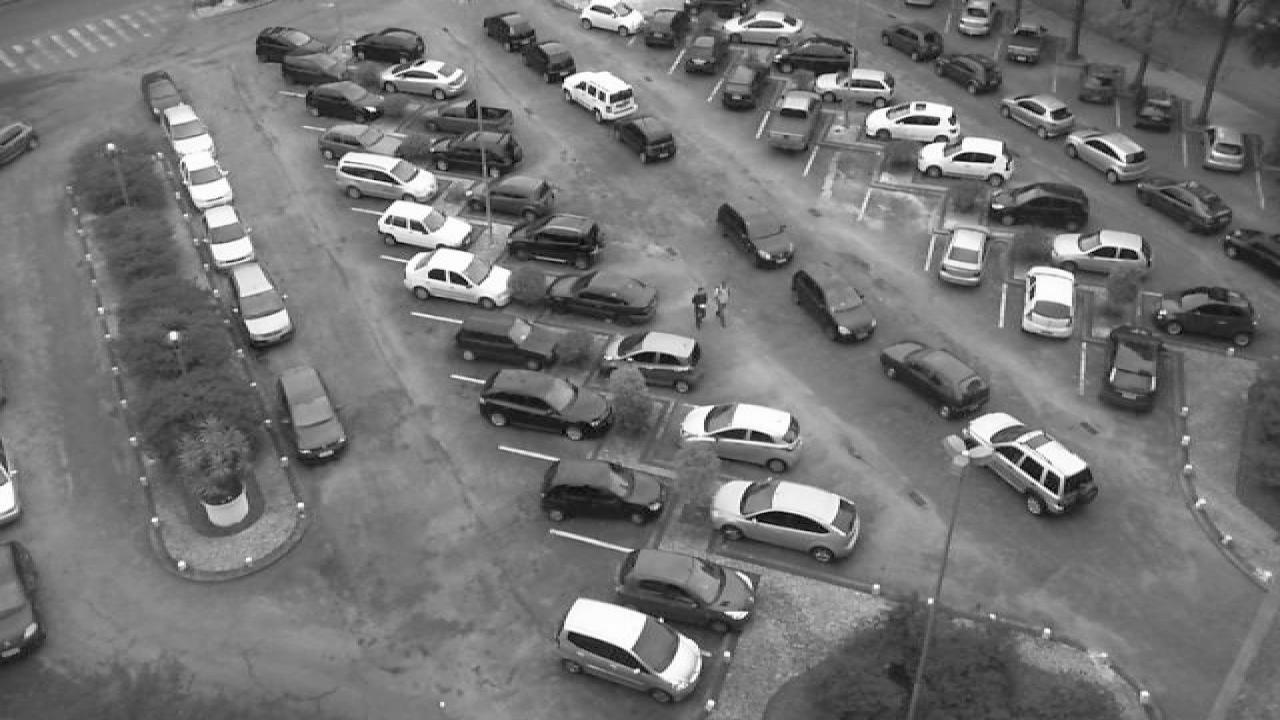Car: (550, 595, 706, 705), (954, 410, 1100, 518), (708, 477, 864, 566), (612, 547, 758, 632), (478, 367, 614, 441), (540, 454, 670, 528), (876, 338, 994, 419), (678, 401, 804, 472), (272, 362, 350, 467), (448, 308, 564, 373), (400, 248, 512, 310), (220, 260, 298, 348), (790, 263, 876, 342), (600, 330, 702, 394), (544, 268, 660, 324), (1154, 285, 1262, 343), (502, 213, 608, 271), (334, 151, 442, 206), (1134, 177, 1236, 234), (1098, 324, 1164, 412), (374, 198, 476, 254), (714, 196, 792, 266), (1052, 228, 1154, 280), (986, 178, 1092, 228), (912, 133, 1012, 183), (1064, 128, 1152, 184), (464, 172, 558, 221), (426, 130, 524, 176), (1020, 267, 1080, 342), (316, 121, 406, 170), (864, 99, 960, 143), (562, 70, 638, 124), (304, 80, 394, 122), (380, 57, 470, 99), (418, 96, 514, 135), (760, 90, 818, 153), (774, 35, 862, 75), (1000, 91, 1078, 136), (938, 223, 990, 288), (610, 115, 680, 163), (200, 214, 260, 269), (930, 52, 1004, 96), (1200, 122, 1260, 176), (350, 28, 430, 66), (140, 71, 196, 123), (880, 19, 946, 63), (182, 159, 240, 209), (254, 24, 328, 63), (724, 10, 804, 45), (280, 52, 356, 88), (720, 62, 776, 110), (576, 0, 646, 38), (164, 118, 218, 167), (482, 10, 542, 53), (522, 37, 578, 80), (1132, 84, 1180, 130), (998, 22, 1048, 66), (638, 6, 688, 50), (1074, 60, 1122, 103), (676, 34, 726, 74), (952, 0, 1000, 35)
